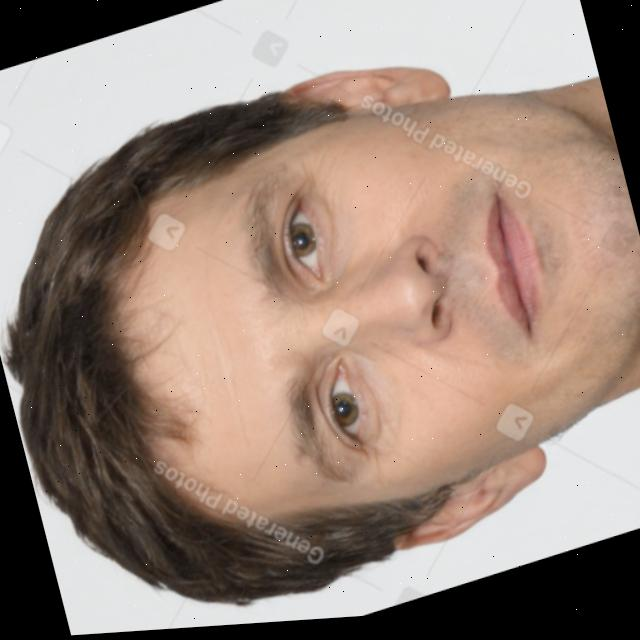natural: (0, 1, 640, 640)
